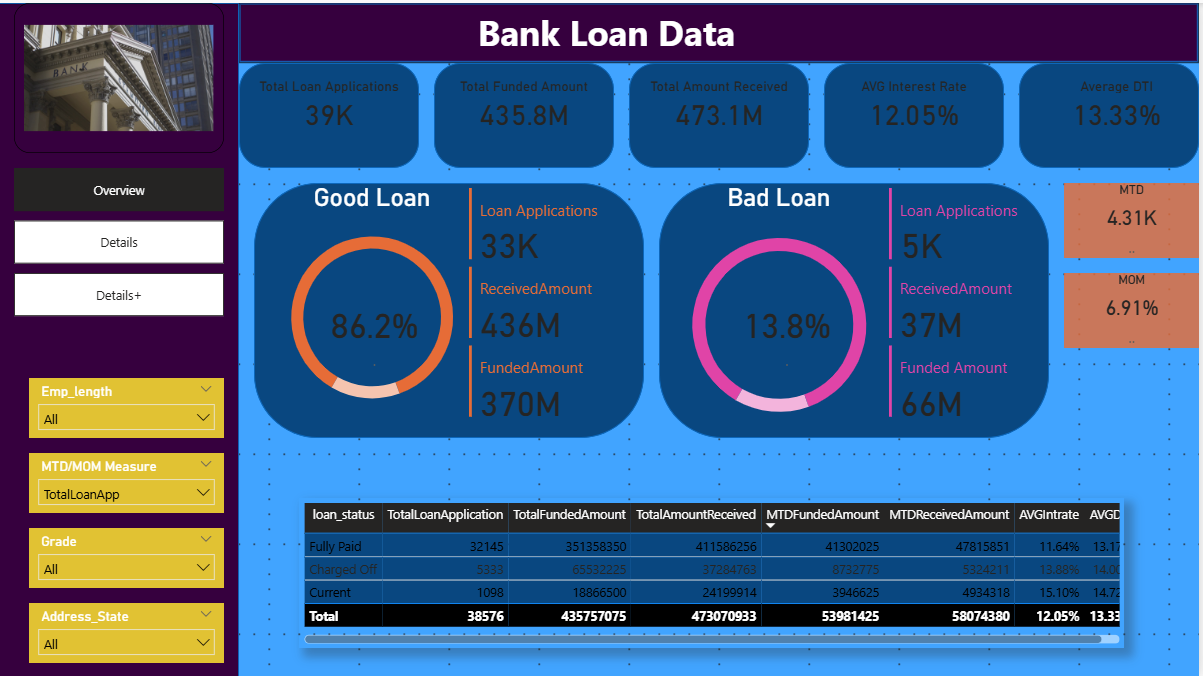

Layout of this report page (visuals, bound fields, positions):
{"tool":"powerbi","page":{"name":"Overview","canvas":[1280,720],"ordinal":0},"visuals":[{"type":"shape","box":[0,0,256,720],"z":0},{"type":"shape","box":[256,0,1024,64],"z":1000},{"type":"shape","box":[256,64,192,112],"z":2000},{"type":"shape","box":[464,64,192,112],"z":3000},{"type":"shape","box":[704,192,416,272],"z":4000},{"type":"shape","box":[672,64,192,112],"z":5000},{"type":"shape","box":[272,192,416,272],"z":6000},{"type":"shape","box":[880,64,192,112],"z":7000},{"type":"shape","box":[1088,64,192,112],"z":8000},{"type":"card","title":"MTD","fields":{"Values":["Measuress.MTDLoanapp"]},"box":[1136,192,144,80],"z":9000},{"type":"card","title":"Total Loan Applications","fields":{"Values":["Measuress.TotalLoanApp"]},"box":[256,80,192,80],"z":10000},{"type":"card","title":"Total Funded Amount","fields":{"Values":["Measuress.TotalFundedAmount"]},"box":[464,80,192,80],"z":11000},{"type":"card","title":"Total Amount Received","fields":{"Values":["Measuress.TotalAmountReceived"]},"box":[672,80,192,80],"z":12000},{"type":"card","title":"AVG Interest Rate","fields":{"Values":["Measuress.AVGIntrate"]},"box":[880,80,192,80],"z":13000},{"type":"card","title":"Average DTI","fields":{"Values":["Measuress.AVGDTI"]},"box":[1104,80,176,80],"z":14000},{"type":"card","title":"MOM","fields":{"Values":["Measuress.MOM"]},"box":[1136,288,144,80],"z":15000},{"type":"image","box":[16,0,224,160],"z":16000},{"type":"donutChart","title":"Good Loan ","fields":{"Y":["Measuress.GoodLoanapp","Measuress.BadLoanapp"]},"box":[224,192,368,256],"z":17000},{"type":"donutChart","title":"Bad Loan ","fields":{"Y":["Measuress.GoodLoanapp","Measuress.BadLoanapp"]},"box":[624,192,416,272],"z":18000},{"type":"card","fields":{"Values":["Measuress.GoodLoanapp"]},"box":[336,304,128,96],"z":19000},{"type":"card","fields":{"Values":["Measuress.BadLoanapp"]},"box":[704,288,272,128],"z":20000},{"type":"cardVisual","fields":{"Data":["Measuress.BadLoanAppcount","Measuress.BadLoanReceivedAmount","Measuress.BadLoanTotalAmount"]},"box":[928,192,224,256],"z":21000},{"type":"cardVisual","fields":{"Data":["Measuress.GoodLoanAppcount","Measuress.GoodLoanReceivedAmount","Measuress.GoodLoanFundedAmount"]},"box":[496,192,224,256],"z":22000},{"type":"tableEx","fields":{"Values":["bank_loan_data.loan_status","Measuress.TotalLoanApp","Measuress.TotalFundedAmount","Measuress.TotalAmountReceived","Measuress.MTDFundedAmount","Measuress.MTDReceivedAmount","Measuress.AVGIntrate","Measuress.AVGDTI"]},"box":[320,528,880,160],"z":23000},{"type":"slicer","fields":{"Values":["MeasureSelect.MeasureName"]},"box":[32,496,208,64],"z":24000},{"type":"slicer","fields":{"Values":["bank_loan_data.grade"]},"box":[32,576,208,64],"z":25000},{"type":"slicer","fields":{"Values":["bank_loan_data.address_state"]},"box":[32,656,208,64],"z":26000},{"type":"slicer","fields":{"Values":["bank_loan_data.emp_length"]},"box":[32,416,208,64],"z":27000},{"type":"pageNavigator","box":[16,176,224,160],"z":28000},{"type":"textbox","box":[496,0,304,64],"z":29000}]}

Visuals, with their boxes in screenshot pixels (x1, y1, x2, y2), scaled from the page's 1280x720 canvas onto the 1203x676 screenshot:
shape: (0, 0, 241, 675)
shape: (241, 0, 1202, 60)
shape: (241, 60, 421, 165)
shape: (436, 60, 617, 165)
shape: (662, 180, 1053, 436)
shape: (632, 60, 812, 165)
shape: (256, 180, 647, 436)
shape: (827, 60, 1008, 165)
shape: (1023, 60, 1202, 165)
"MTD" card: (1068, 180, 1202, 255)
"Total Loan Applications" card: (241, 75, 421, 150)
"Total Funded Amount" card: (436, 75, 617, 150)
"Total Amount Received" card: (632, 75, 812, 150)
"AVG Interest Rate" card: (827, 75, 1008, 150)
"Average DTI" card: (1038, 75, 1202, 150)
"MOM" card: (1068, 270, 1202, 346)
image: (15, 0, 226, 150)
"Good Loan " donutChart: (211, 180, 556, 421)
"Bad Loan " donutChart: (586, 180, 977, 436)
card - Measuress.GoodLoanapp: (316, 285, 436, 376)
card - Measuress.BadLoanapp: (662, 270, 917, 391)
cardVisual - Measuress.BadLoanAppcount x Measuress.BadLoanReceivedAmount: (872, 180, 1083, 421)
cardVisual - Measuress.GoodLoanAppcount x Measuress.GoodLoanReceivedAmount: (466, 180, 677, 421)
tableEx - bank_loan_data.loan_status x Measuress.TotalLoanApp: (301, 496, 1128, 646)
slicer - MeasureSelect.MeasureName: (30, 466, 226, 526)
slicer - bank_loan_data.grade: (30, 541, 226, 601)
slicer - bank_loan_data.address_state: (30, 616, 226, 675)
slicer - bank_loan_data.emp_length: (30, 391, 226, 451)
pageNavigator: (15, 165, 226, 315)
textbox: (466, 0, 752, 60)
